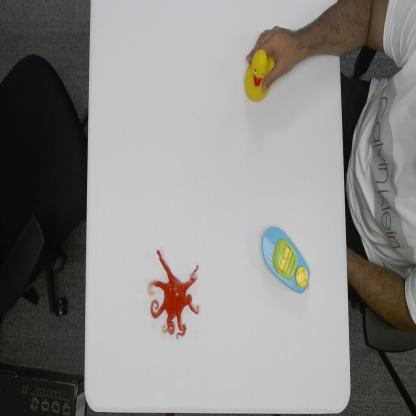Arm: (308, 0, 414, 66)
Boat: (261, 223, 311, 296)
Duck: (244, 48, 276, 102)
Hand: (246, 23, 300, 94)
Octopus: (147, 248, 200, 340)
